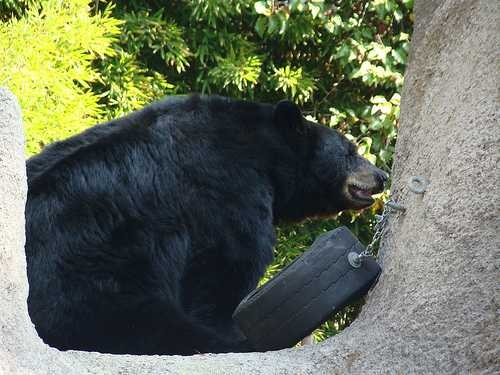bear: (264, 93, 392, 221)
